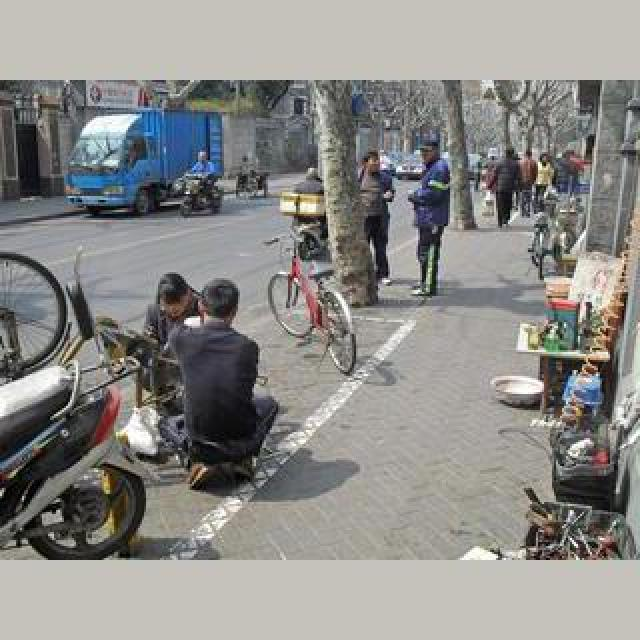Bus-Bike: (400, 158, 426, 180)
Emergency Vehicles-Bike: (0, 350, 148, 552)
MC-Bike: (146, 276, 266, 490), (408, 138, 452, 298), (358, 150, 396, 288), (490, 150, 520, 230), (518, 152, 538, 214), (534, 152, 556, 206), (190, 148, 218, 178)
Person: (268, 242, 358, 376), (526, 198, 558, 280)
Person-Bike: (64, 110, 226, 218)
